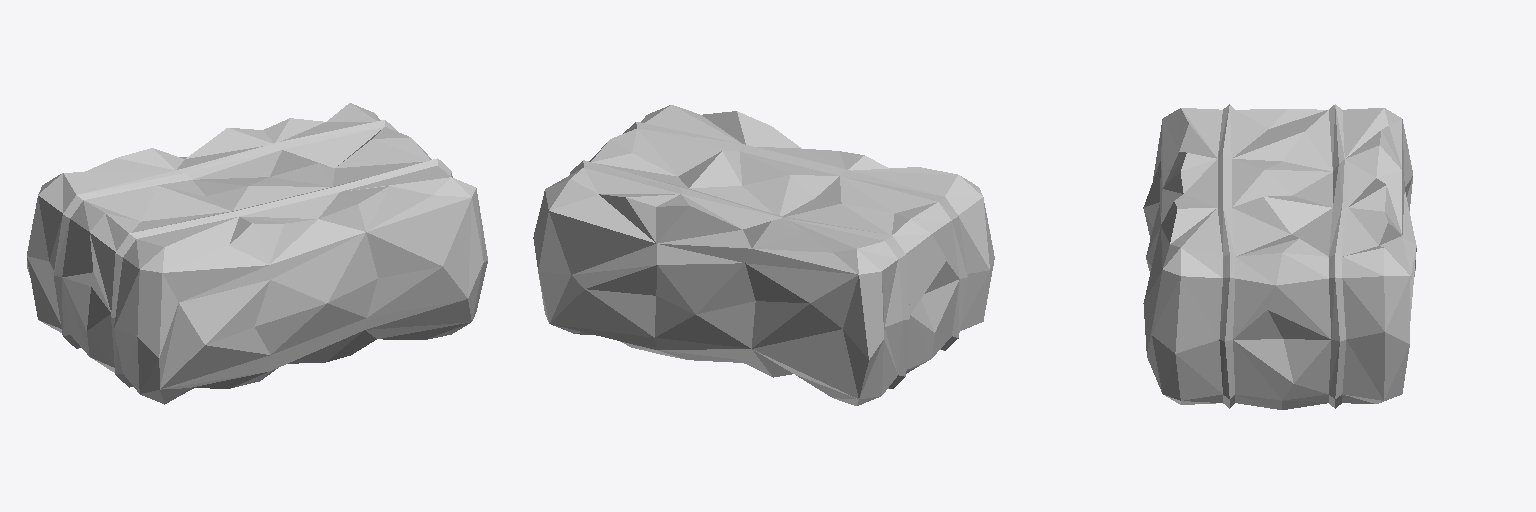
Rendered from SM_Prop_Hay_Bale_Square_02.obj.
3 renders of one model, left to right at view 1: azimuth 30°, elevation 25°; view 2: azimuth 150°, elevation 25°; view 3: azimuth 270°, elevation 25°, orthographic.
Bounding box in the file's own units: 168 × 76.97 × 109.